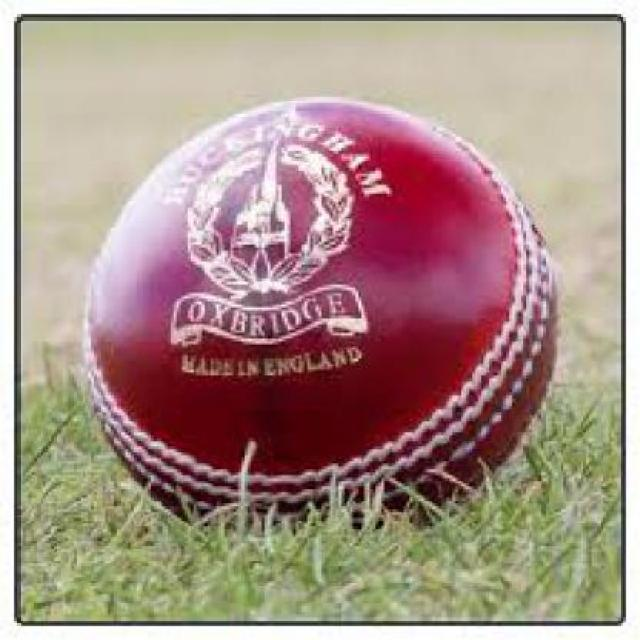ball: (78, 65, 578, 520)
